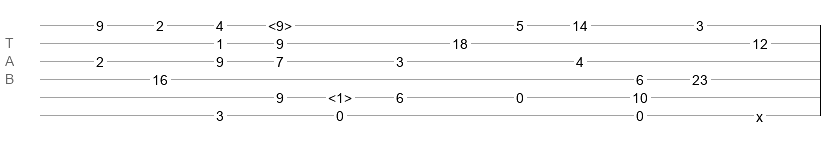0: (336, 108, 344, 118), (516, 90, 524, 100), (636, 108, 644, 118)
1: (216, 36, 224, 46)
10: (632, 90, 648, 100)
12: (752, 36, 768, 46)
14: (572, 18, 588, 28)
16: (152, 72, 168, 82)
18: (452, 36, 468, 46)
2: (96, 54, 104, 64), (156, 18, 164, 28)
23: (692, 72, 708, 82)
3: (216, 108, 224, 118), (396, 54, 404, 64), (696, 18, 704, 28)
4: (216, 18, 224, 28), (576, 54, 584, 64)
5: (516, 18, 524, 28)
6: (396, 90, 404, 100), (636, 72, 644, 82)
7: (276, 54, 284, 64)
9: (96, 18, 104, 28), (216, 54, 224, 64), (276, 36, 284, 46), (276, 90, 284, 100)
harmonic: (268, 18, 292, 28), (328, 90, 352, 100)
x: (756, 109, 763, 117)
